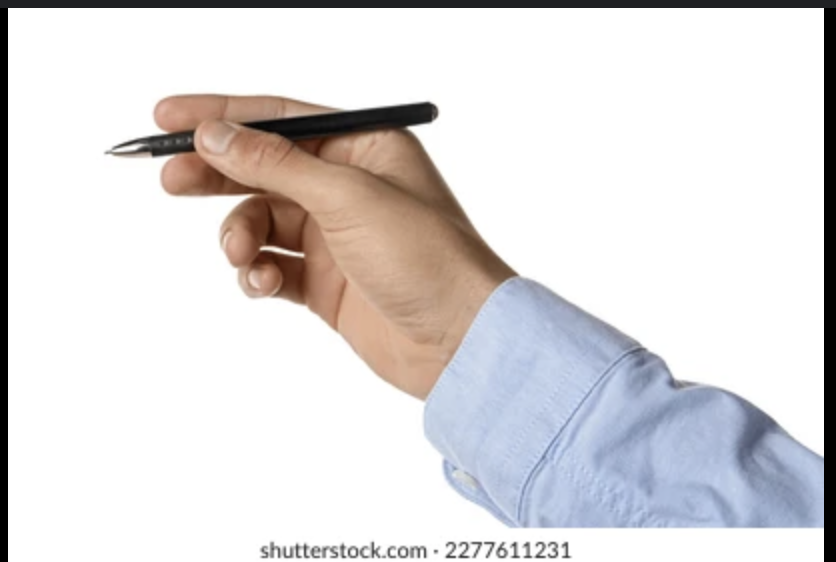pen: (101, 100, 439, 164)
